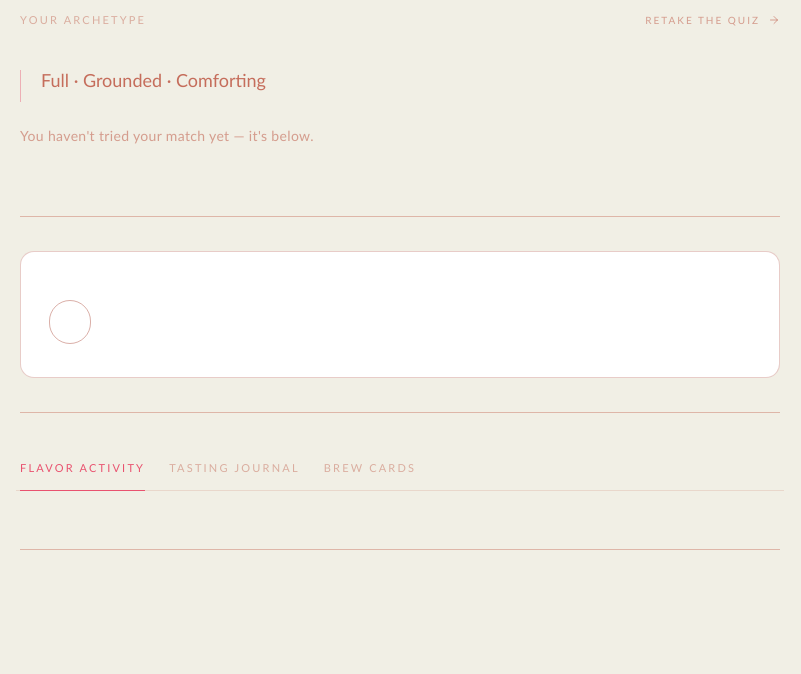
Scenario: the Profile page (D1 to D4) › the Brew cards segment shows the sentence from the payload, above the first card
(page scrolled)
Click the tab with test id "history-tab-cards" at (370,469), box [324,447,416,491]
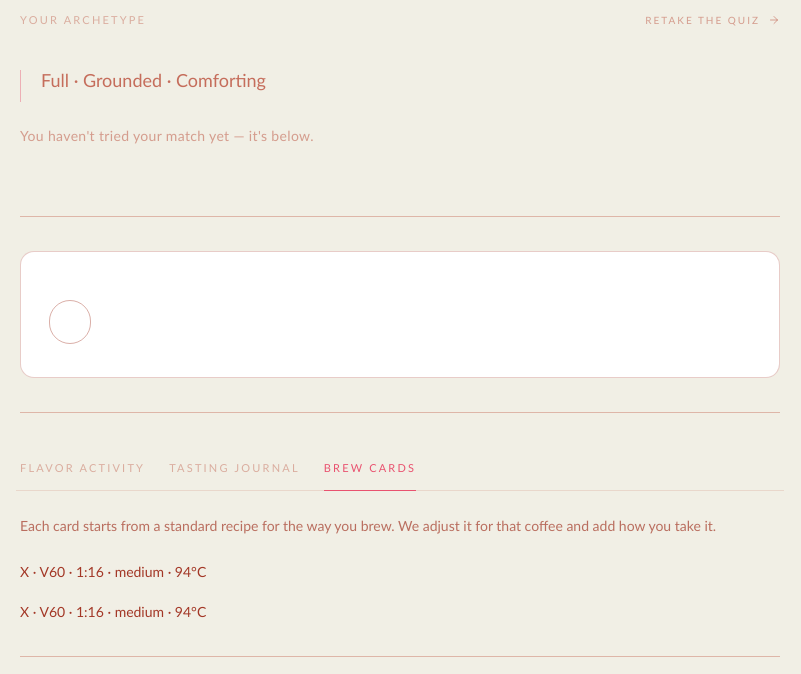
Expected: the text with test id "brew-cards-about" shows "Each card starts from a standard recipe for the way you brew. We adjust it for that coffee and add how you take it.", [20,517,716,534]
Expected: the number of elements with test id "brew-cards-about" is 1, [20,515,780,538]
